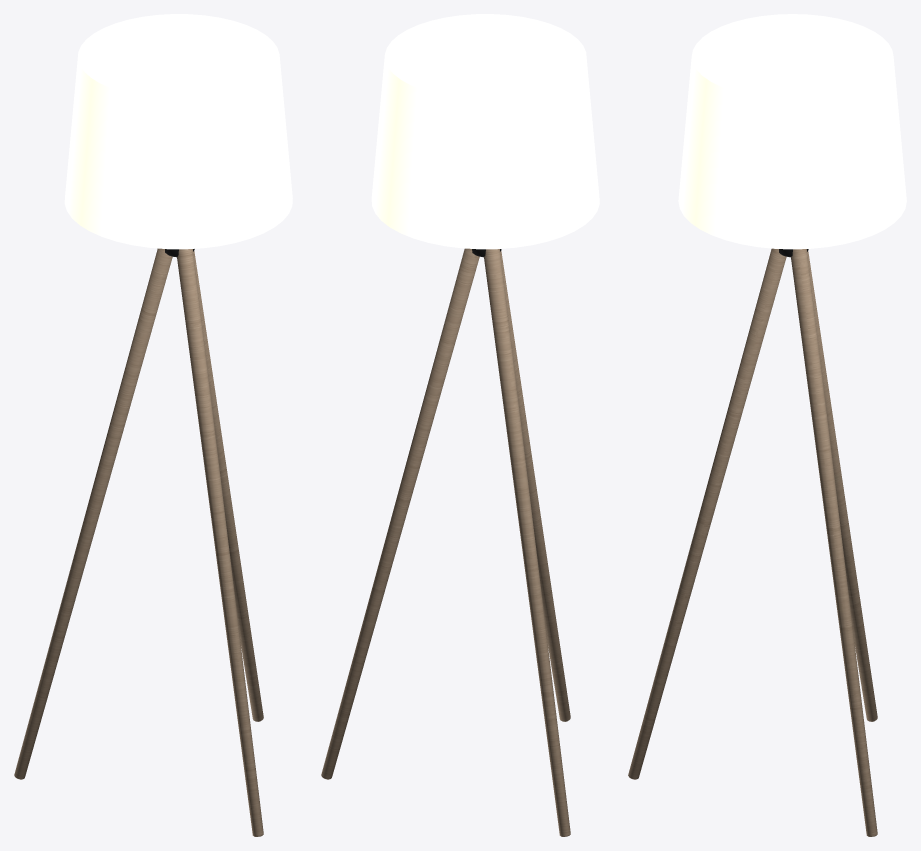
The model's file is floor_lamp.glb.
3 views of the same model, side by side, from view 1: azimuth 30°, elevation 25°; view 2: azimuth 150°, elevation 25°; view 3: azimuth 270°, elevation 25° (orthographic).
Visible parts, largest first — view 1: floor_lamp; view 2: floor_lamp; view 3: floor_lamp.
Boxes of the visible parts, x1,y1,x2,y2 form: floor_lamp: [14, 14, 292, 836]; floor_lamp: [321, 14, 599, 836]; floor_lamp: [628, 14, 906, 836].
Bounding box in the file's own units: 0.5393 × 1.5 × 0.5247.
4 materials, 1 textured.
